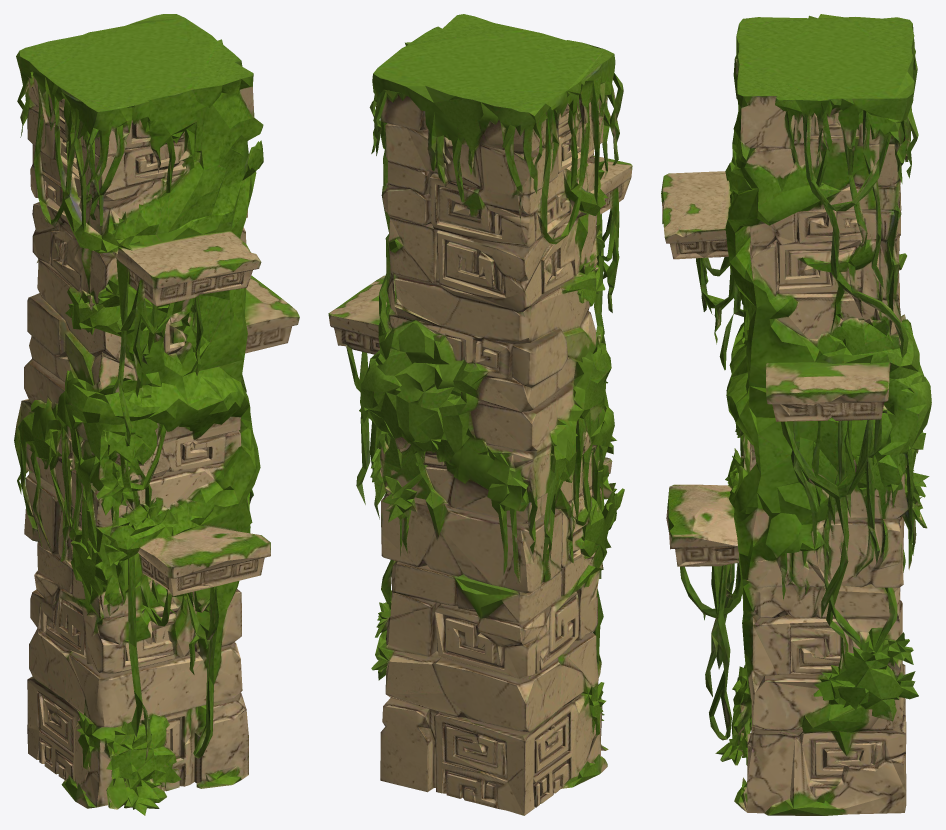
File: RuinWall.fbx
The picture shows the model from 3 angles, left to right: view 1: azimuth 30°, elevation 25°; view 2: azimuth 150°, elevation 25°; view 3: azimuth 270°, elevation 25°; orthographic projection. The views are drawn at different scales.
Visible parts, largest first — view 1: RuinWall; view 2: RuinWall; view 3: RuinWall.
Part boxes in pixels (left/top/right/bottom): RuinWall: left=14, top=14, right=299, bottom=815; RuinWall: left=328, top=14, right=632, bottom=815; RuinWall: left=661, top=14, right=931, bottom=815.
Size of the model in its own units: 0.6718 by 2 by 0.6813.
Materials: 1 (1 with a texture image).
